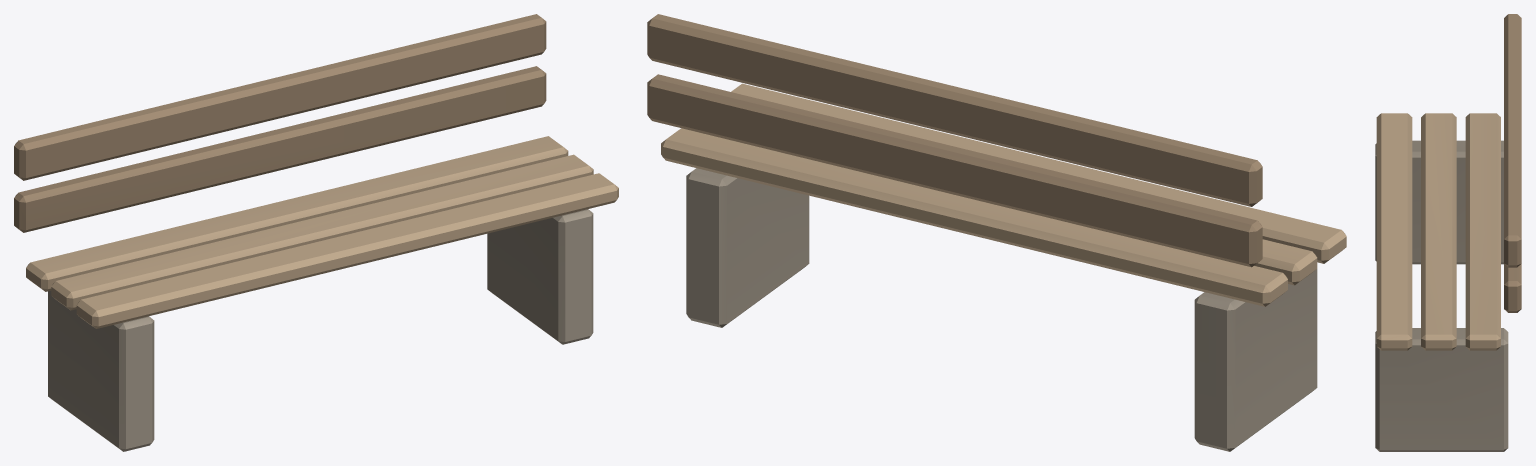
The model's file is bench_waterfront.glb.
3 views of the same model, side by side, from view 1: azimuth 30°, elevation 25°; view 2: azimuth 150°, elevation 25°; view 3: azimuth 270°, elevation 25° (orthographic). The views are drawn at different scales.
Bounding box in the file's own units: 1.8 × 0.85 × 0.495.
